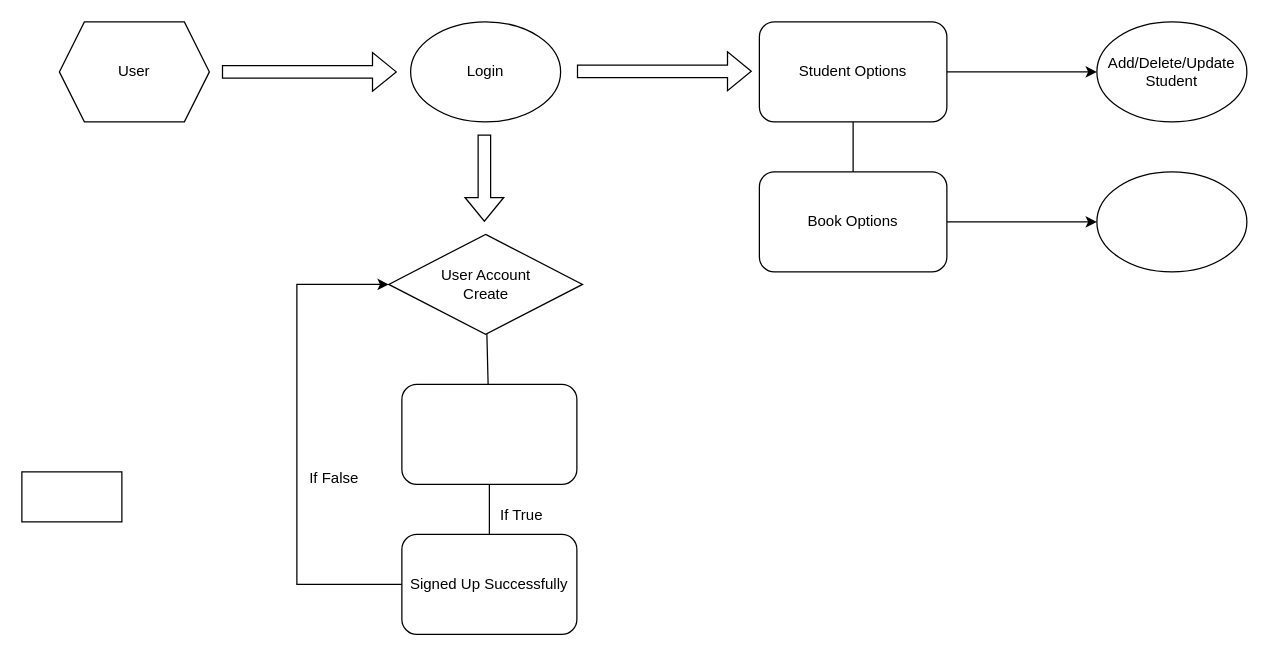
Some shapes in this 1269 by 656 pixel diagram are drawn without their labels. The centre of each missing label's shape, as x and y in pixels:
Add/Delete/Update Book: point 1171,221
Log Out: point 71,496
Sign Up?: point 489,433
